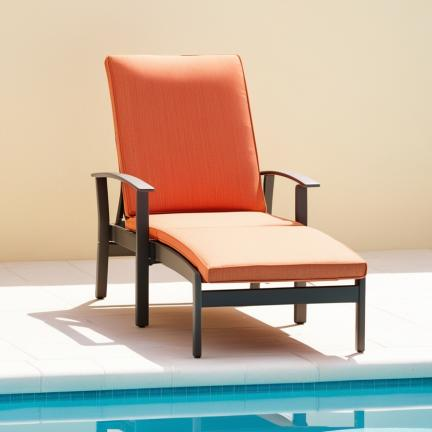empty chair: (92, 56, 367, 357)
